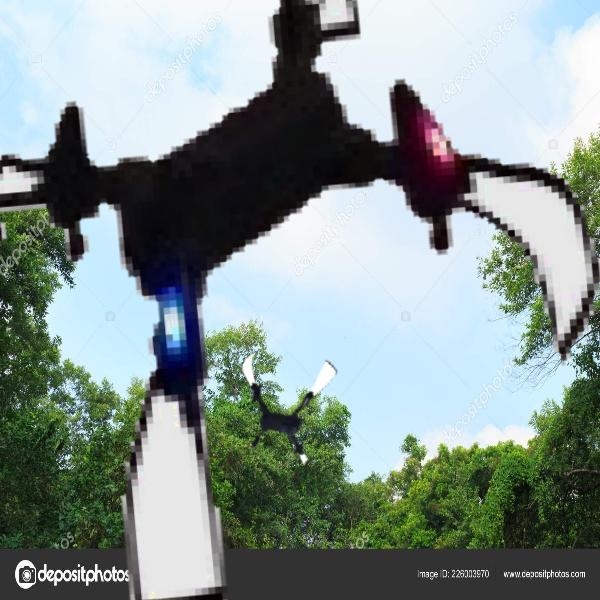drone: (221, 342, 345, 466)
